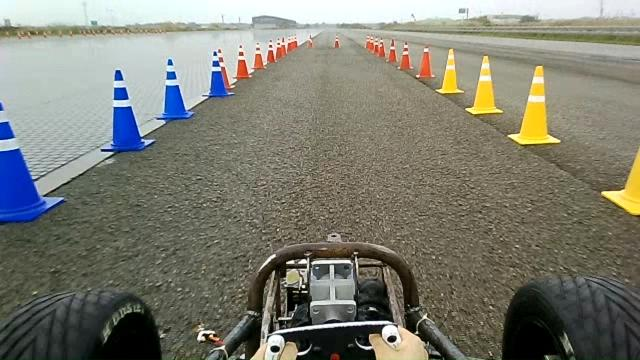blue cone: (0, 100, 64, 222), (100, 68, 156, 153), (155, 58, 195, 120), (202, 50, 235, 97)
red cone: (214, 48, 236, 89), (416, 42, 436, 79), (233, 44, 252, 78), (251, 41, 266, 70), (398, 41, 413, 70), (386, 38, 398, 63), (266, 38, 276, 64)
yellow cone: (507, 65, 561, 146), (465, 54, 503, 115), (435, 48, 464, 94)
